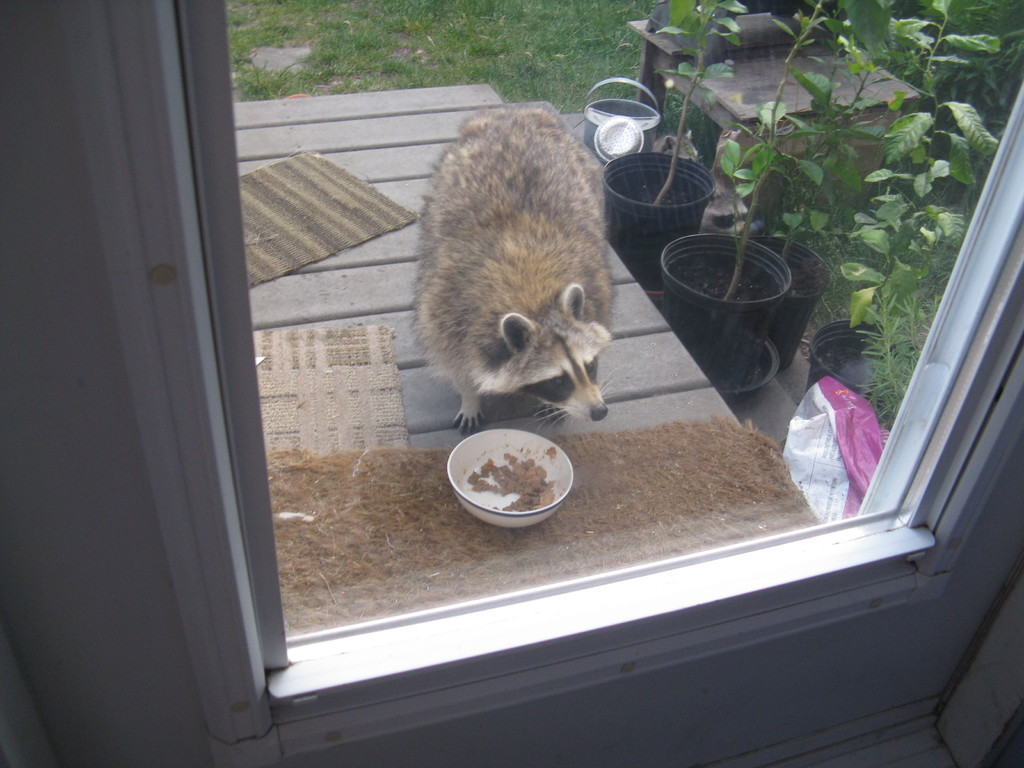raccoon: (412, 103, 617, 436)
